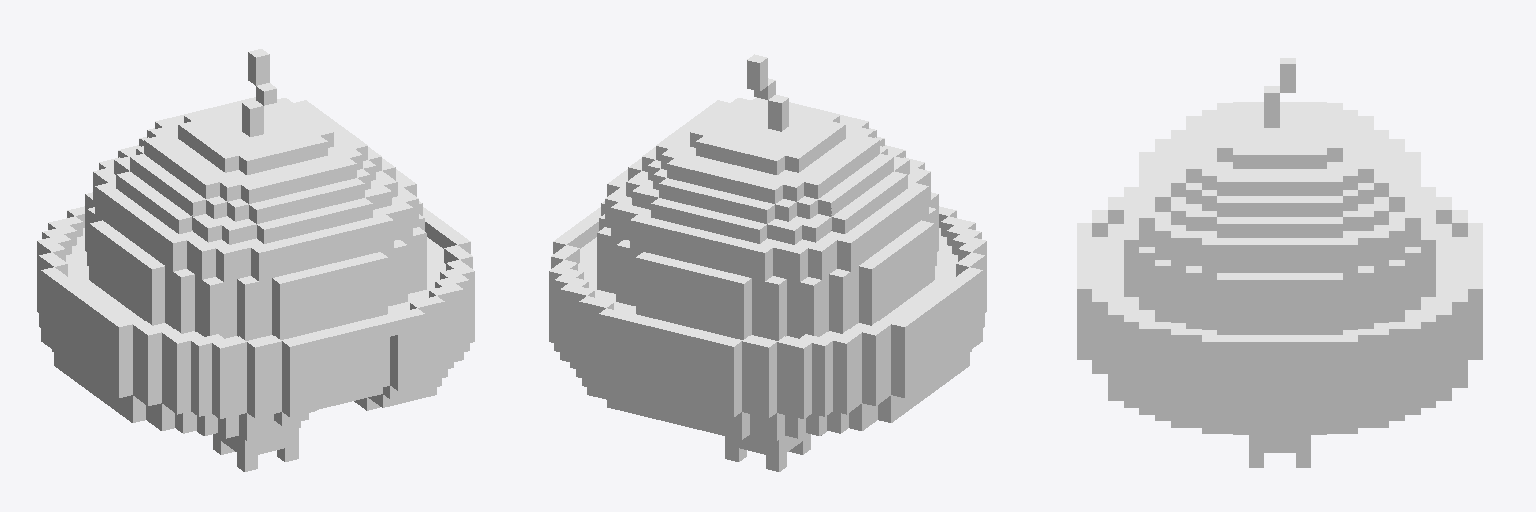
File: grinch_lander_air.obj
3 views of the same model, side by side, from view 1: azimuth 30°, elevation 25°; view 2: azimuth 150°, elevation 25°; view 3: azimuth 270°, elevation 25° (orthographic).
Parts seen in each view (by area): view 1: object 1; view 2: object 1; view 3: object 1.
Boxes of the visible parts, box(x1,y1,x2,y2) form: object 1: box(37, 49, 474, 471); object 1: box(549, 54, 986, 471); object 1: box(1077, 58, 1482, 467).
Bounding box in the file's own units: 2.6 × 2.8 × 2.6.